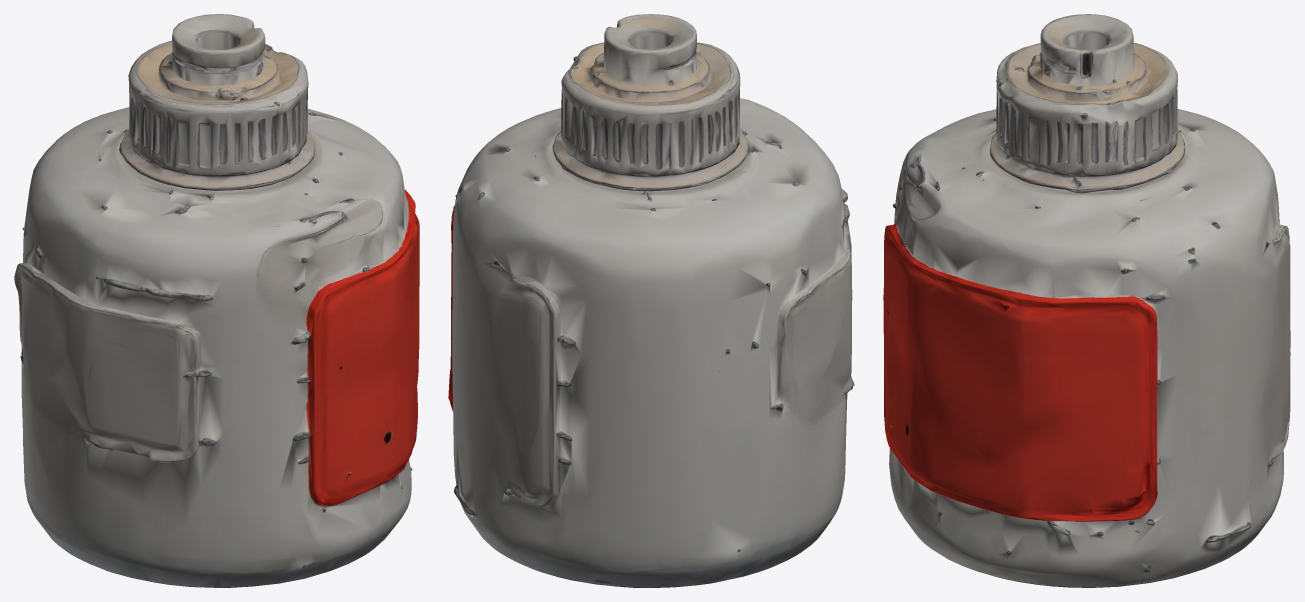
Rendered from whiteout_bottle.glb.
3 views of the same model, side by side, from view 1: azimuth 30°, elevation 25°; view 2: azimuth 150°, elevation 25°; view 3: azimuth 270°, elevation 25° (orthographic).
Parts seen in each view (by area): view 1: tripo_node_44792c58-df6d-4c28-972d-8c5ead16c88e; view 2: tripo_node_44792c58-df6d-4c28-972d-8c5ead16c88e; view 3: tripo_node_44792c58-df6d-4c28-972d-8c5ead16c88e.
Boxes of the visible parts, x1,y1,x2,y2 form: tripo_node_44792c58-df6d-4c28-972d-8c5ead16c88e: [14, 14, 419, 587]; tripo_node_44792c58-df6d-4c28-972d-8c5ead16c88e: [448, 14, 854, 587]; tripo_node_44792c58-df6d-4c28-972d-8c5ead16c88e: [883, 14, 1290, 587].
Bounding box in the file's own units: 0.9605 × 1.3 × 0.9813.
Materials: 1 (1 with a texture image).
